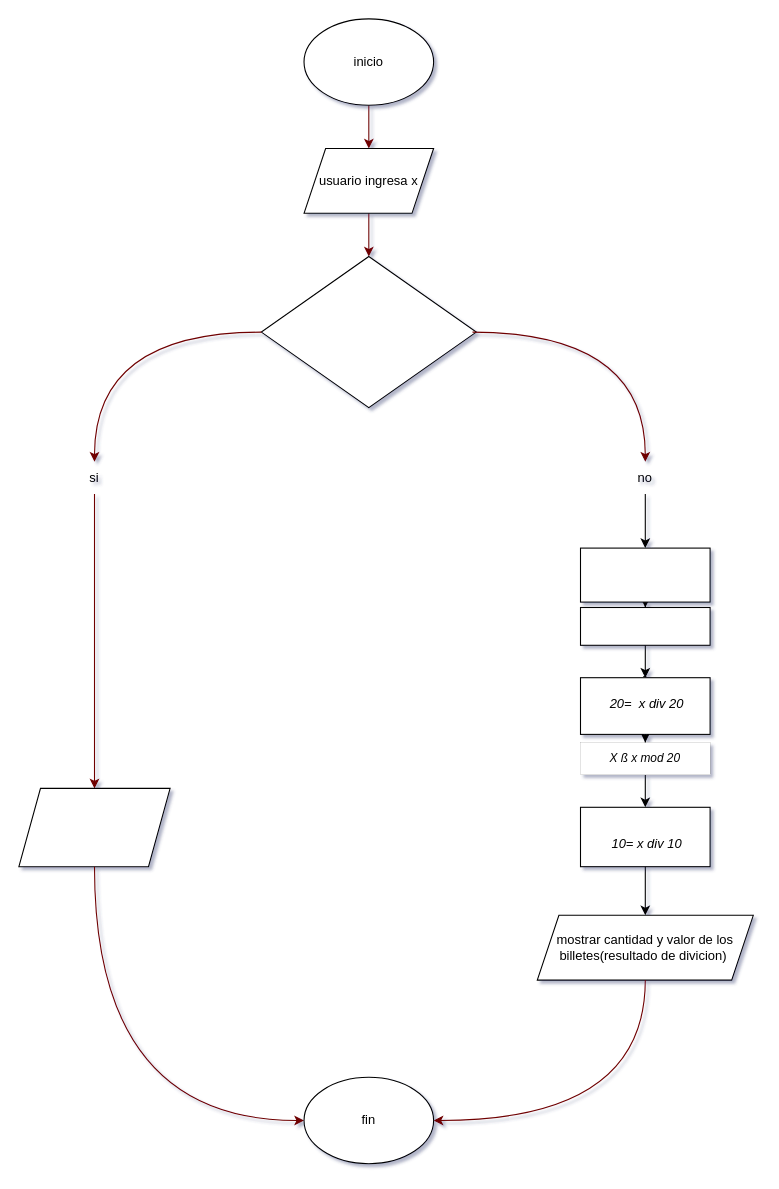
Image size: 779x1189. Some labels were removed from this diagram. The centre of each missing label's shape, as x and y in pixels:
- 50= x div 50: the point at 644,574
mostrar error: cifra incorrecta: the point at 94,827
X mod 10 ¡= 0 X < 10: the point at 368,331
X ß X mod 50: the point at 644,625
